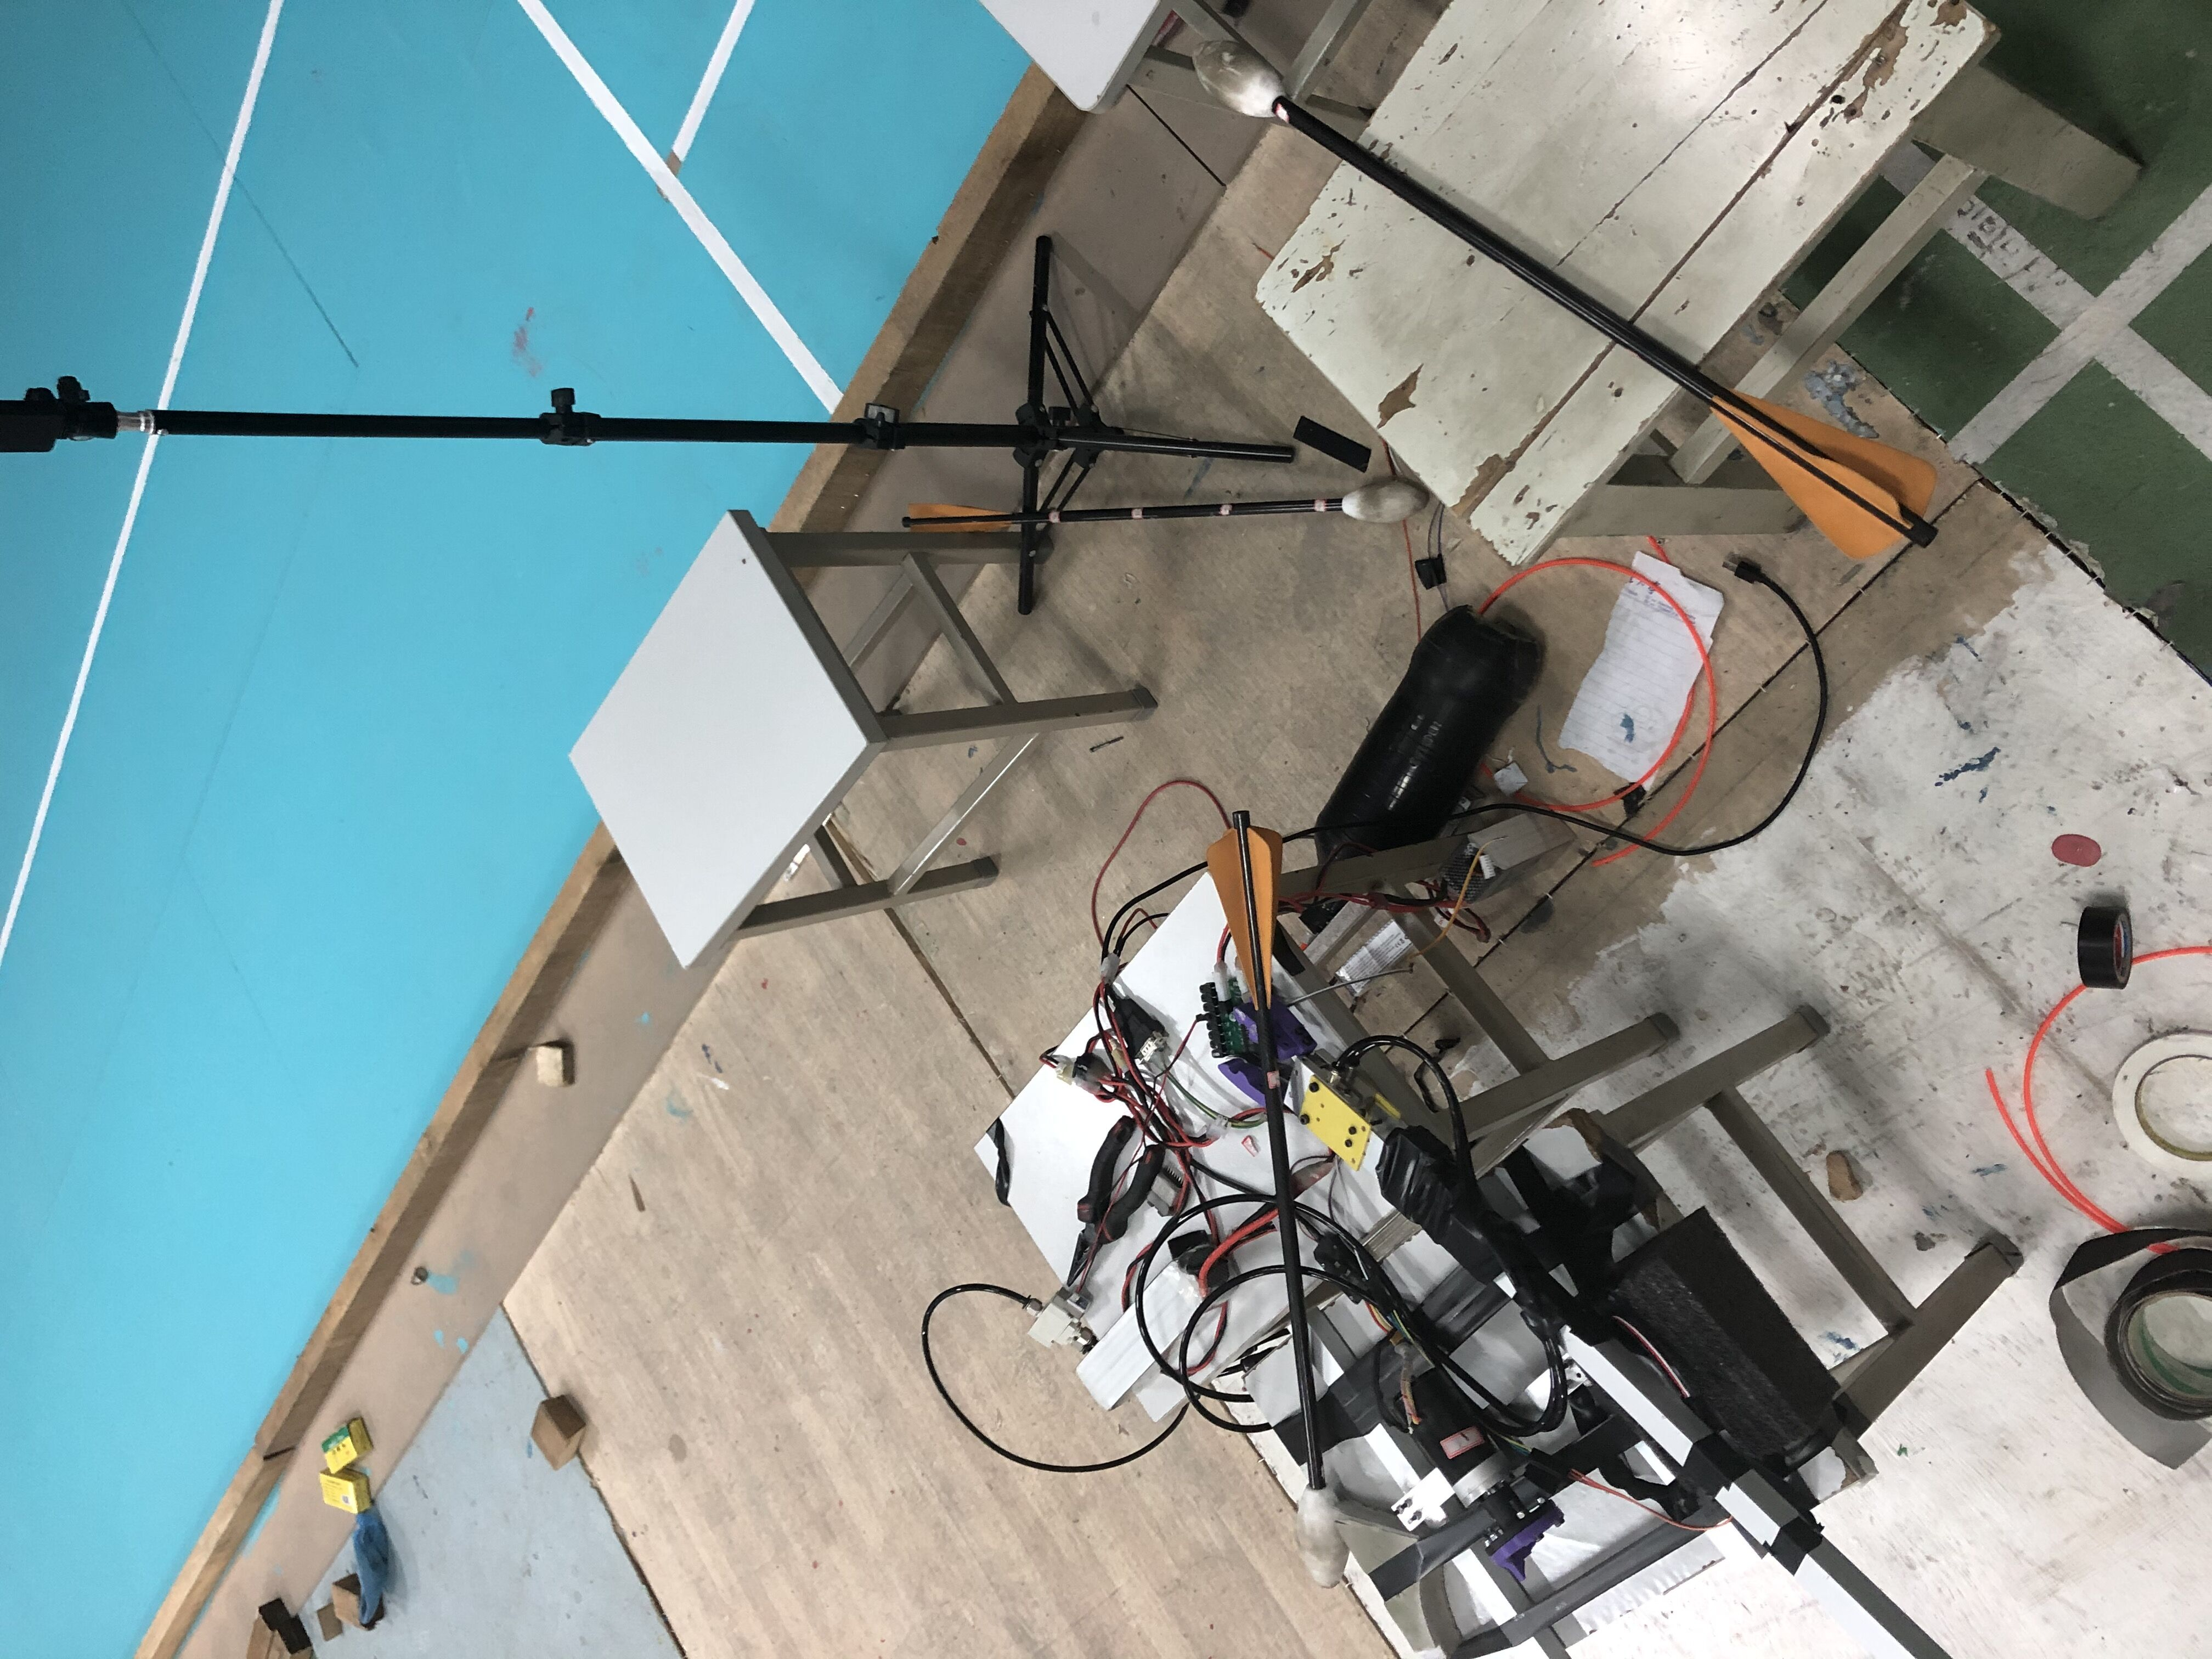arrow: (1195, 37, 1942, 558), (1205, 812, 1353, 1588), (902, 483, 1430, 530)
arrowFront: (1197, 42, 1287, 120), (1294, 1480, 1350, 1584), (1341, 479, 1426, 530)
